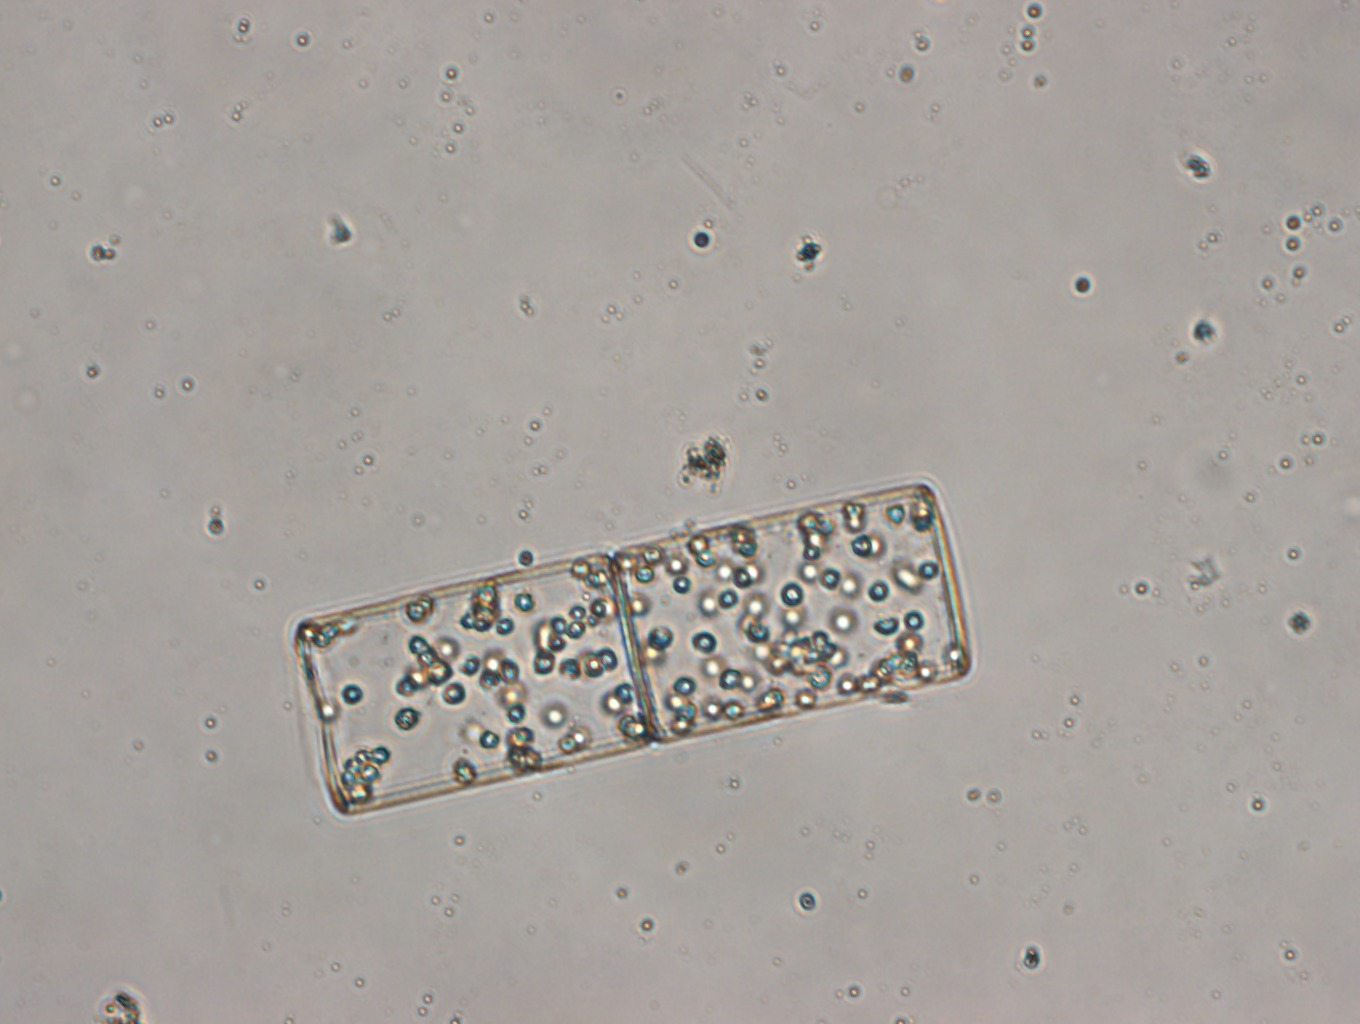guinardia flaccida: (287, 477, 978, 817)
